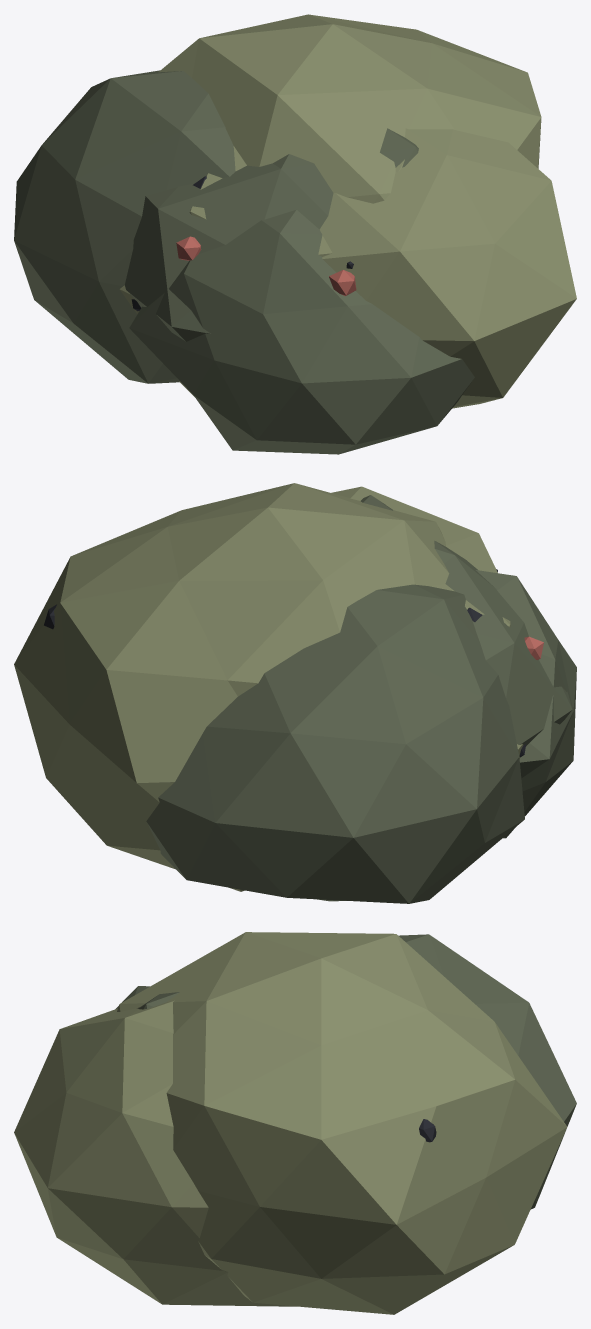
File: wild_bramble.fbx
3 renders of one model, top to bottom at view 1: azimuth 30°, elevation 25°; view 2: azimuth 150°, elevation 25°; view 3: azimuth 270°, elevation 25°, orthographic. The views are drawn at different scales.
Parts seen in each view (by area): view 1: wild_bramble; view 2: wild_bramble; view 3: wild_bramble.
Boxes of the visible parts, x1,y1,x2,y2 form: wild_bramble: (14, 14, 576, 454); wild_bramble: (14, 483, 576, 903); wild_bramble: (14, 932, 576, 1314).
Bounding box in the file's own units: 0.8809 × 0.9545 × 0.6265.
